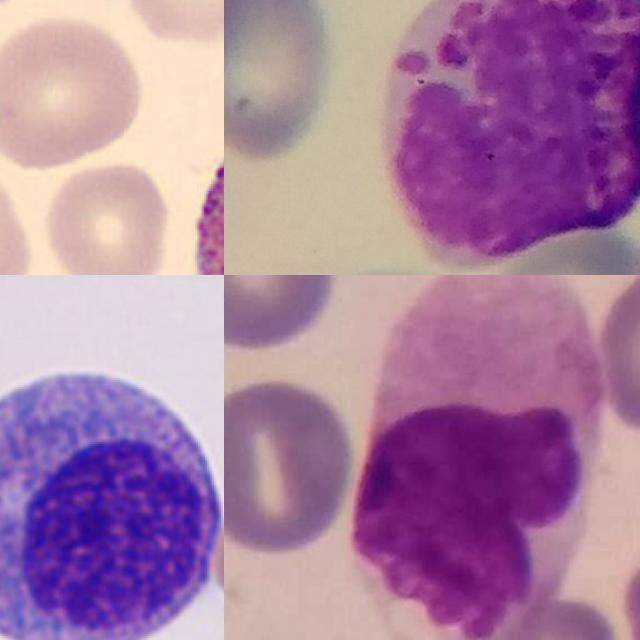Basophil: (375, 0, 640, 272)
Lymphocyte: (0, 348, 224, 640)
Monocyte: (349, 275, 598, 640)
RBC: (0, 9, 150, 175), (38, 157, 175, 275), (118, 0, 224, 48)
